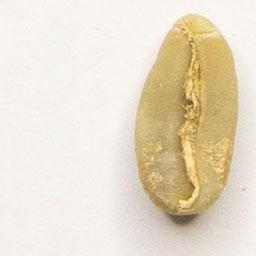longberry: (130, 10, 243, 222)
